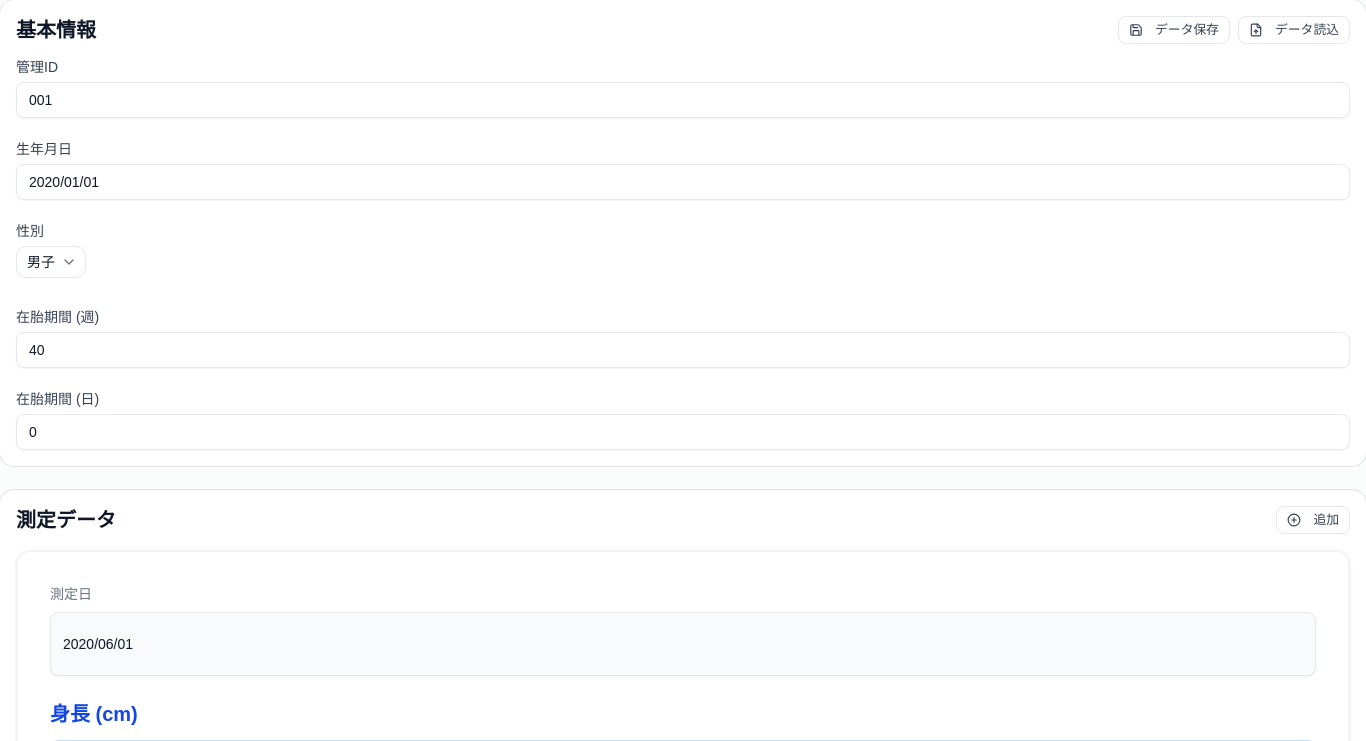
GrowthForm Component Integration / E2E Tests › keeps invalid gestational days visible and reports them as invalid
Replace the text in the field labelled "在胎期間 (日)" with "7": [683, 432] box [16,414,1350,450]
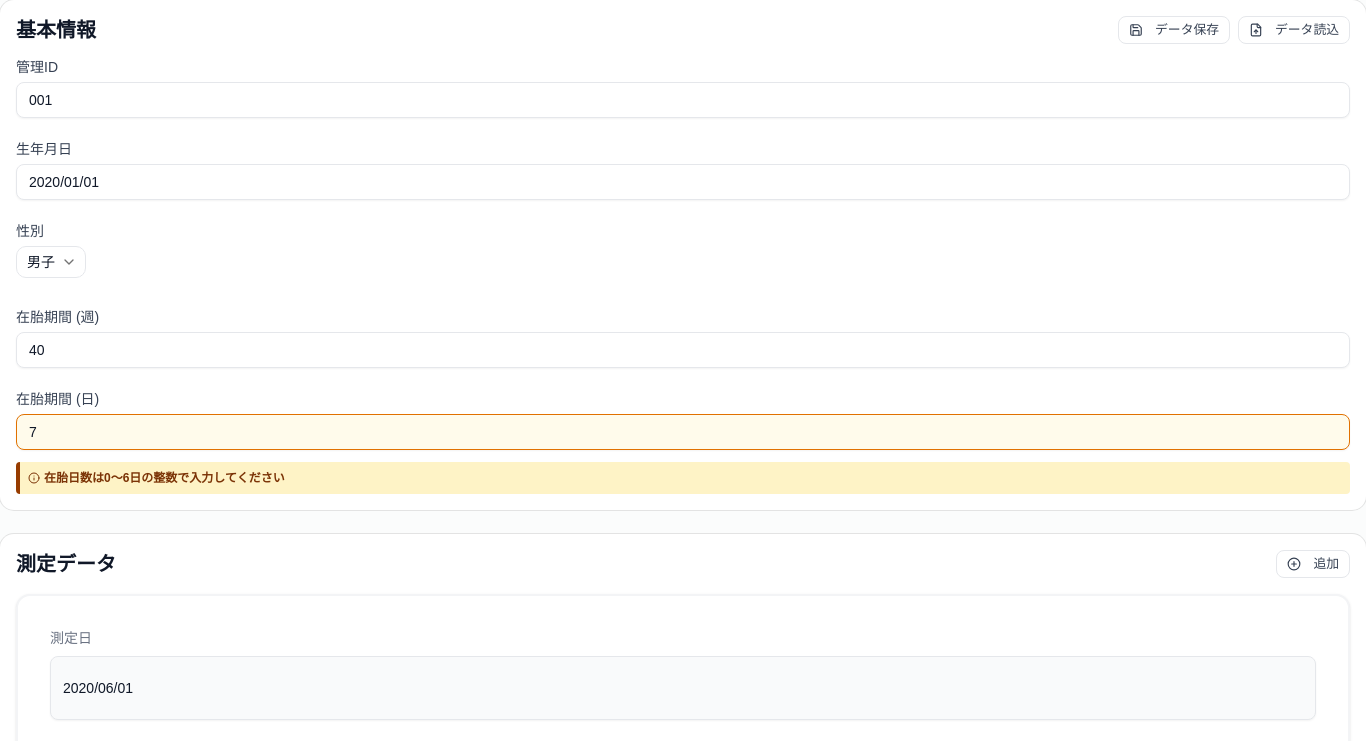
Check: the text "在胎日数は0〜6日の整数で入力してください" is shown, box [44,470,285,486]
